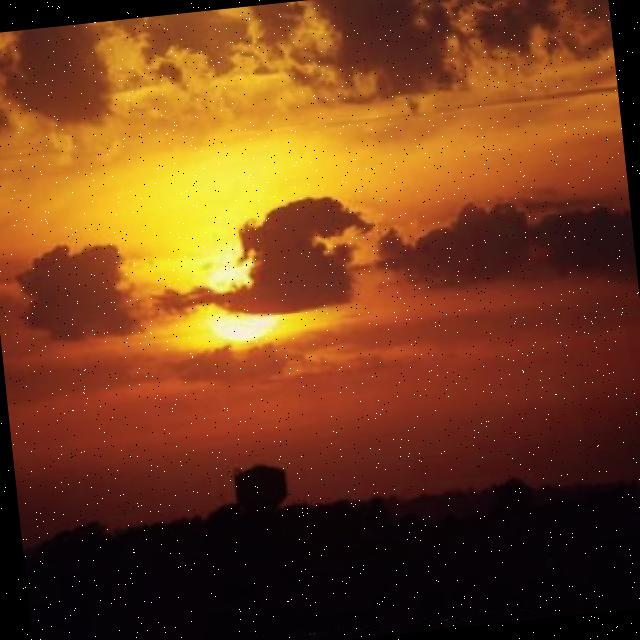As: (1, 2, 640, 462)
